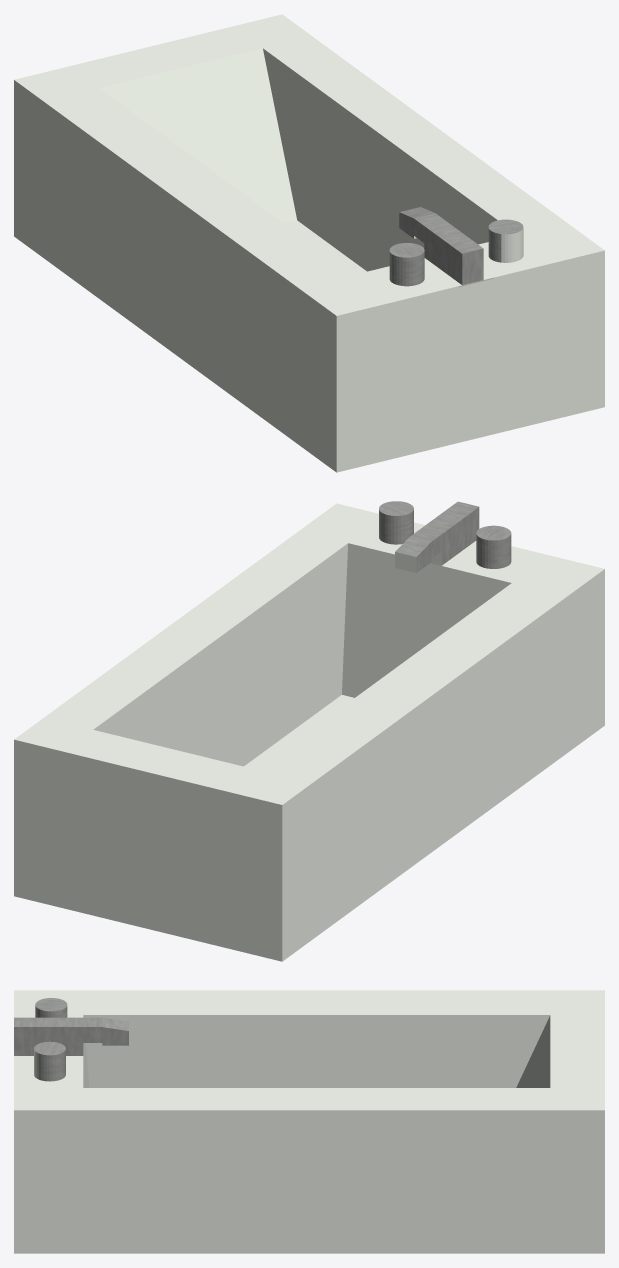
File: bathtub.obj
3 views of the same model, one above another, from view 1: azimuth 30°, elevation 25°; view 2: azimuth 150°, elevation 25°; view 3: azimuth 270°, elevation 25° (orthographic). The views are drawn at different scales.
Visible parts, largest first — view 1: Cube; view 2: Cube; view 3: Cube.
Part boxes in pixels (x1=…): Cube: x1=14, y1=14, x2=604, y2=472; Cube: x1=14, y1=501, x2=604, y2=961; Cube: x1=14, y1=990, x2=604, y2=1253.
Size of the model in its own units: 2.5 by 1.68 by 5.21.
Materials: 1 (1 with a texture image).
